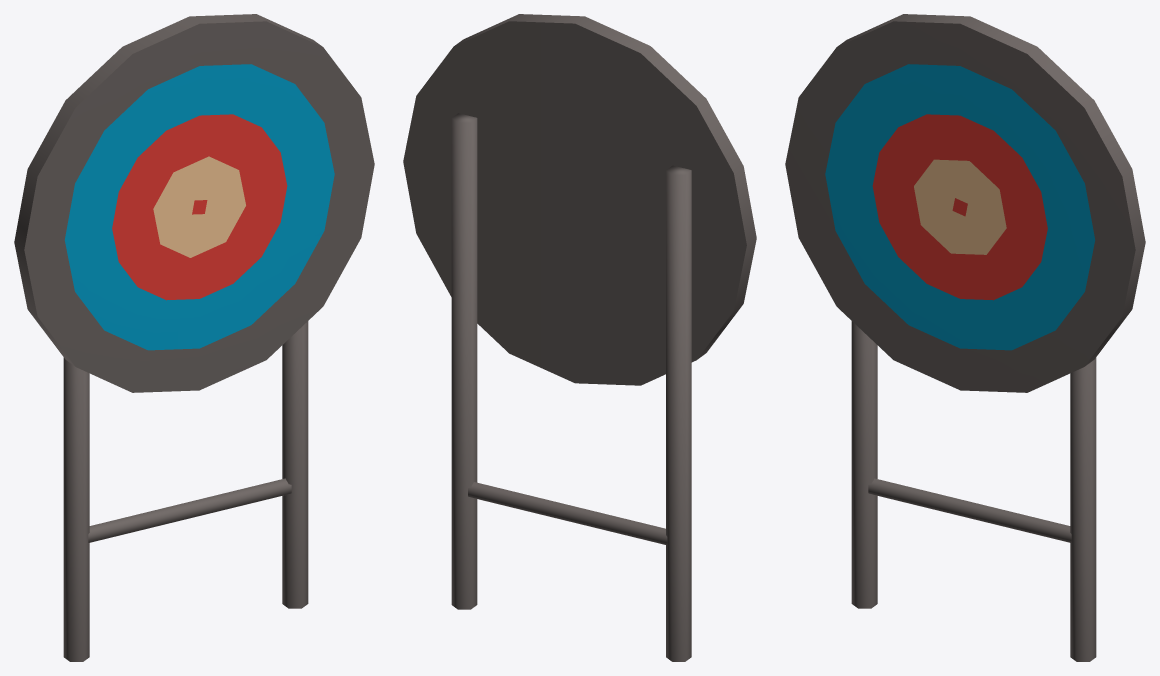
File: target_001.glb
3 renders of one model, left to right at view 1: azimuth 30°, elevation 25°; view 2: azimuth 150°, elevation 25°; view 3: azimuth 330°, elevation 25°, orthographic.
Parts seen in each view (by area): view 1: target_001; view 2: target_001; view 3: target_001.
Part boxes in pixels (x1=…): target_001: x1=14, y1=14, x2=374, y2=661; target_001: x1=403, y1=14, x2=756, y2=661; target_001: x1=785, y1=14, x2=1145, y2=661.
Size of the model in its own units: 1.36 by 2.29 by 0.1363.
Materials: 1 (1 with a texture image).
